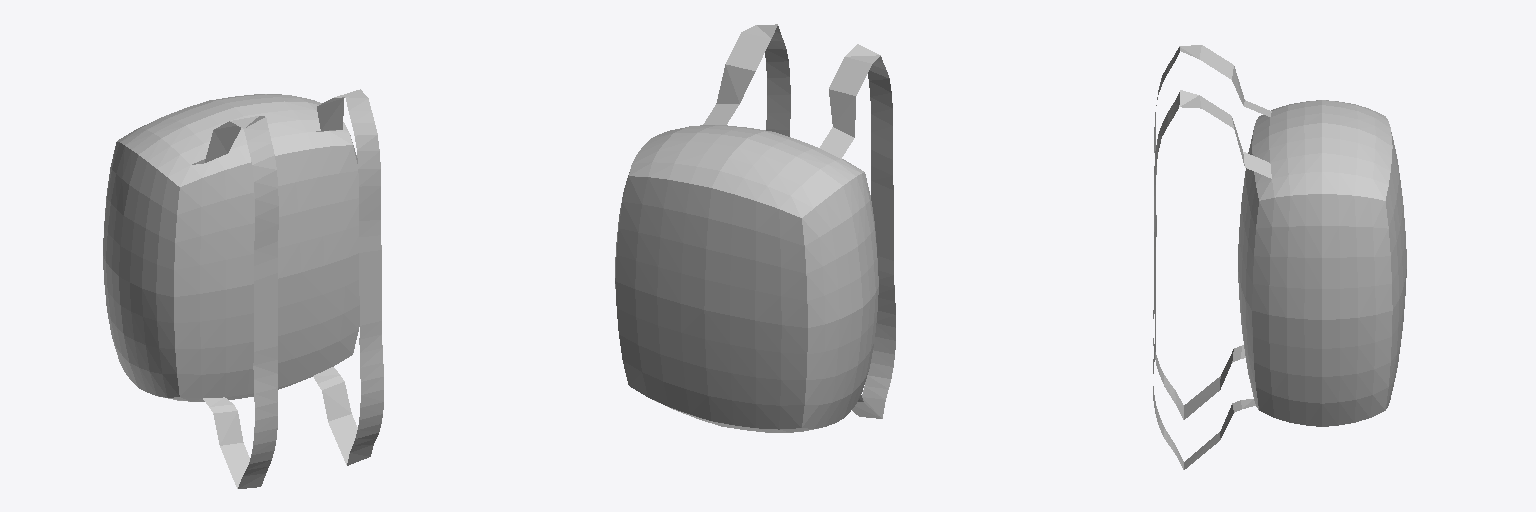
File: backpack_1.obj
3 views of the same model, side by side, from view 1: azimuth 30°, elevation 25°; view 2: azimuth 150°, elevation 25°; view 3: azimuth 270°, elevation 25° (orthographic).
Parts seen in each view (by area): view 1: backpack_1.001; view 2: backpack_1.001; view 3: backpack_1.001.
Part boxes in pixels (bbox=[...]): backpack_1.001: bbox=[103, 89, 383, 488]; backpack_1.001: bbox=[615, 24, 895, 432]; backpack_1.001: bbox=[1153, 45, 1406, 469].
Size of the model in its own units: 0.7388 by 1.13 by 0.6999.